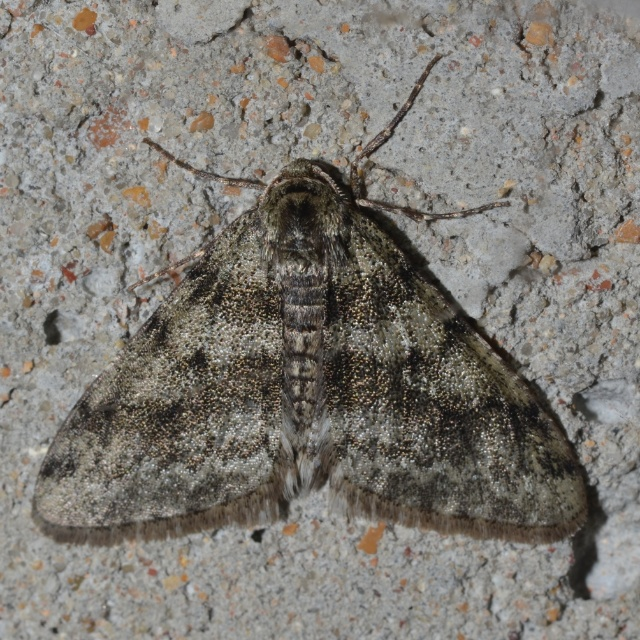Moths and butterflies: (29, 47, 593, 548)
